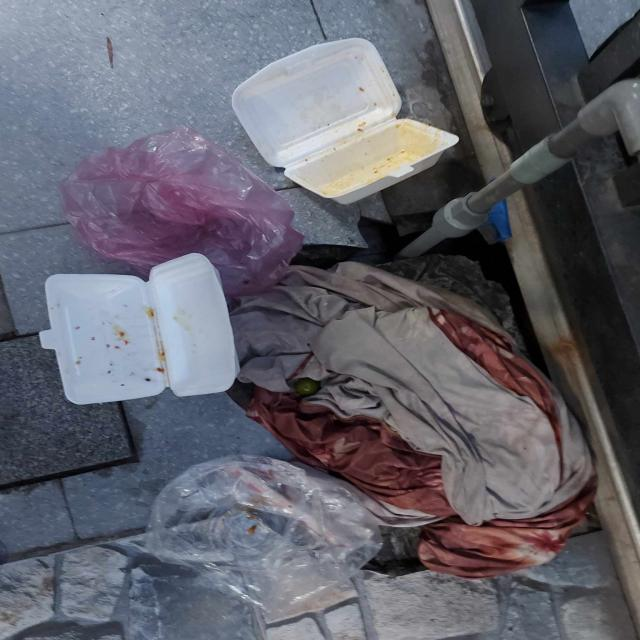bag: (55, 124, 308, 298), (142, 452, 386, 618)
clothes: (235, 259, 597, 579)
foam box: (228, 35, 463, 207), (37, 251, 243, 407)
